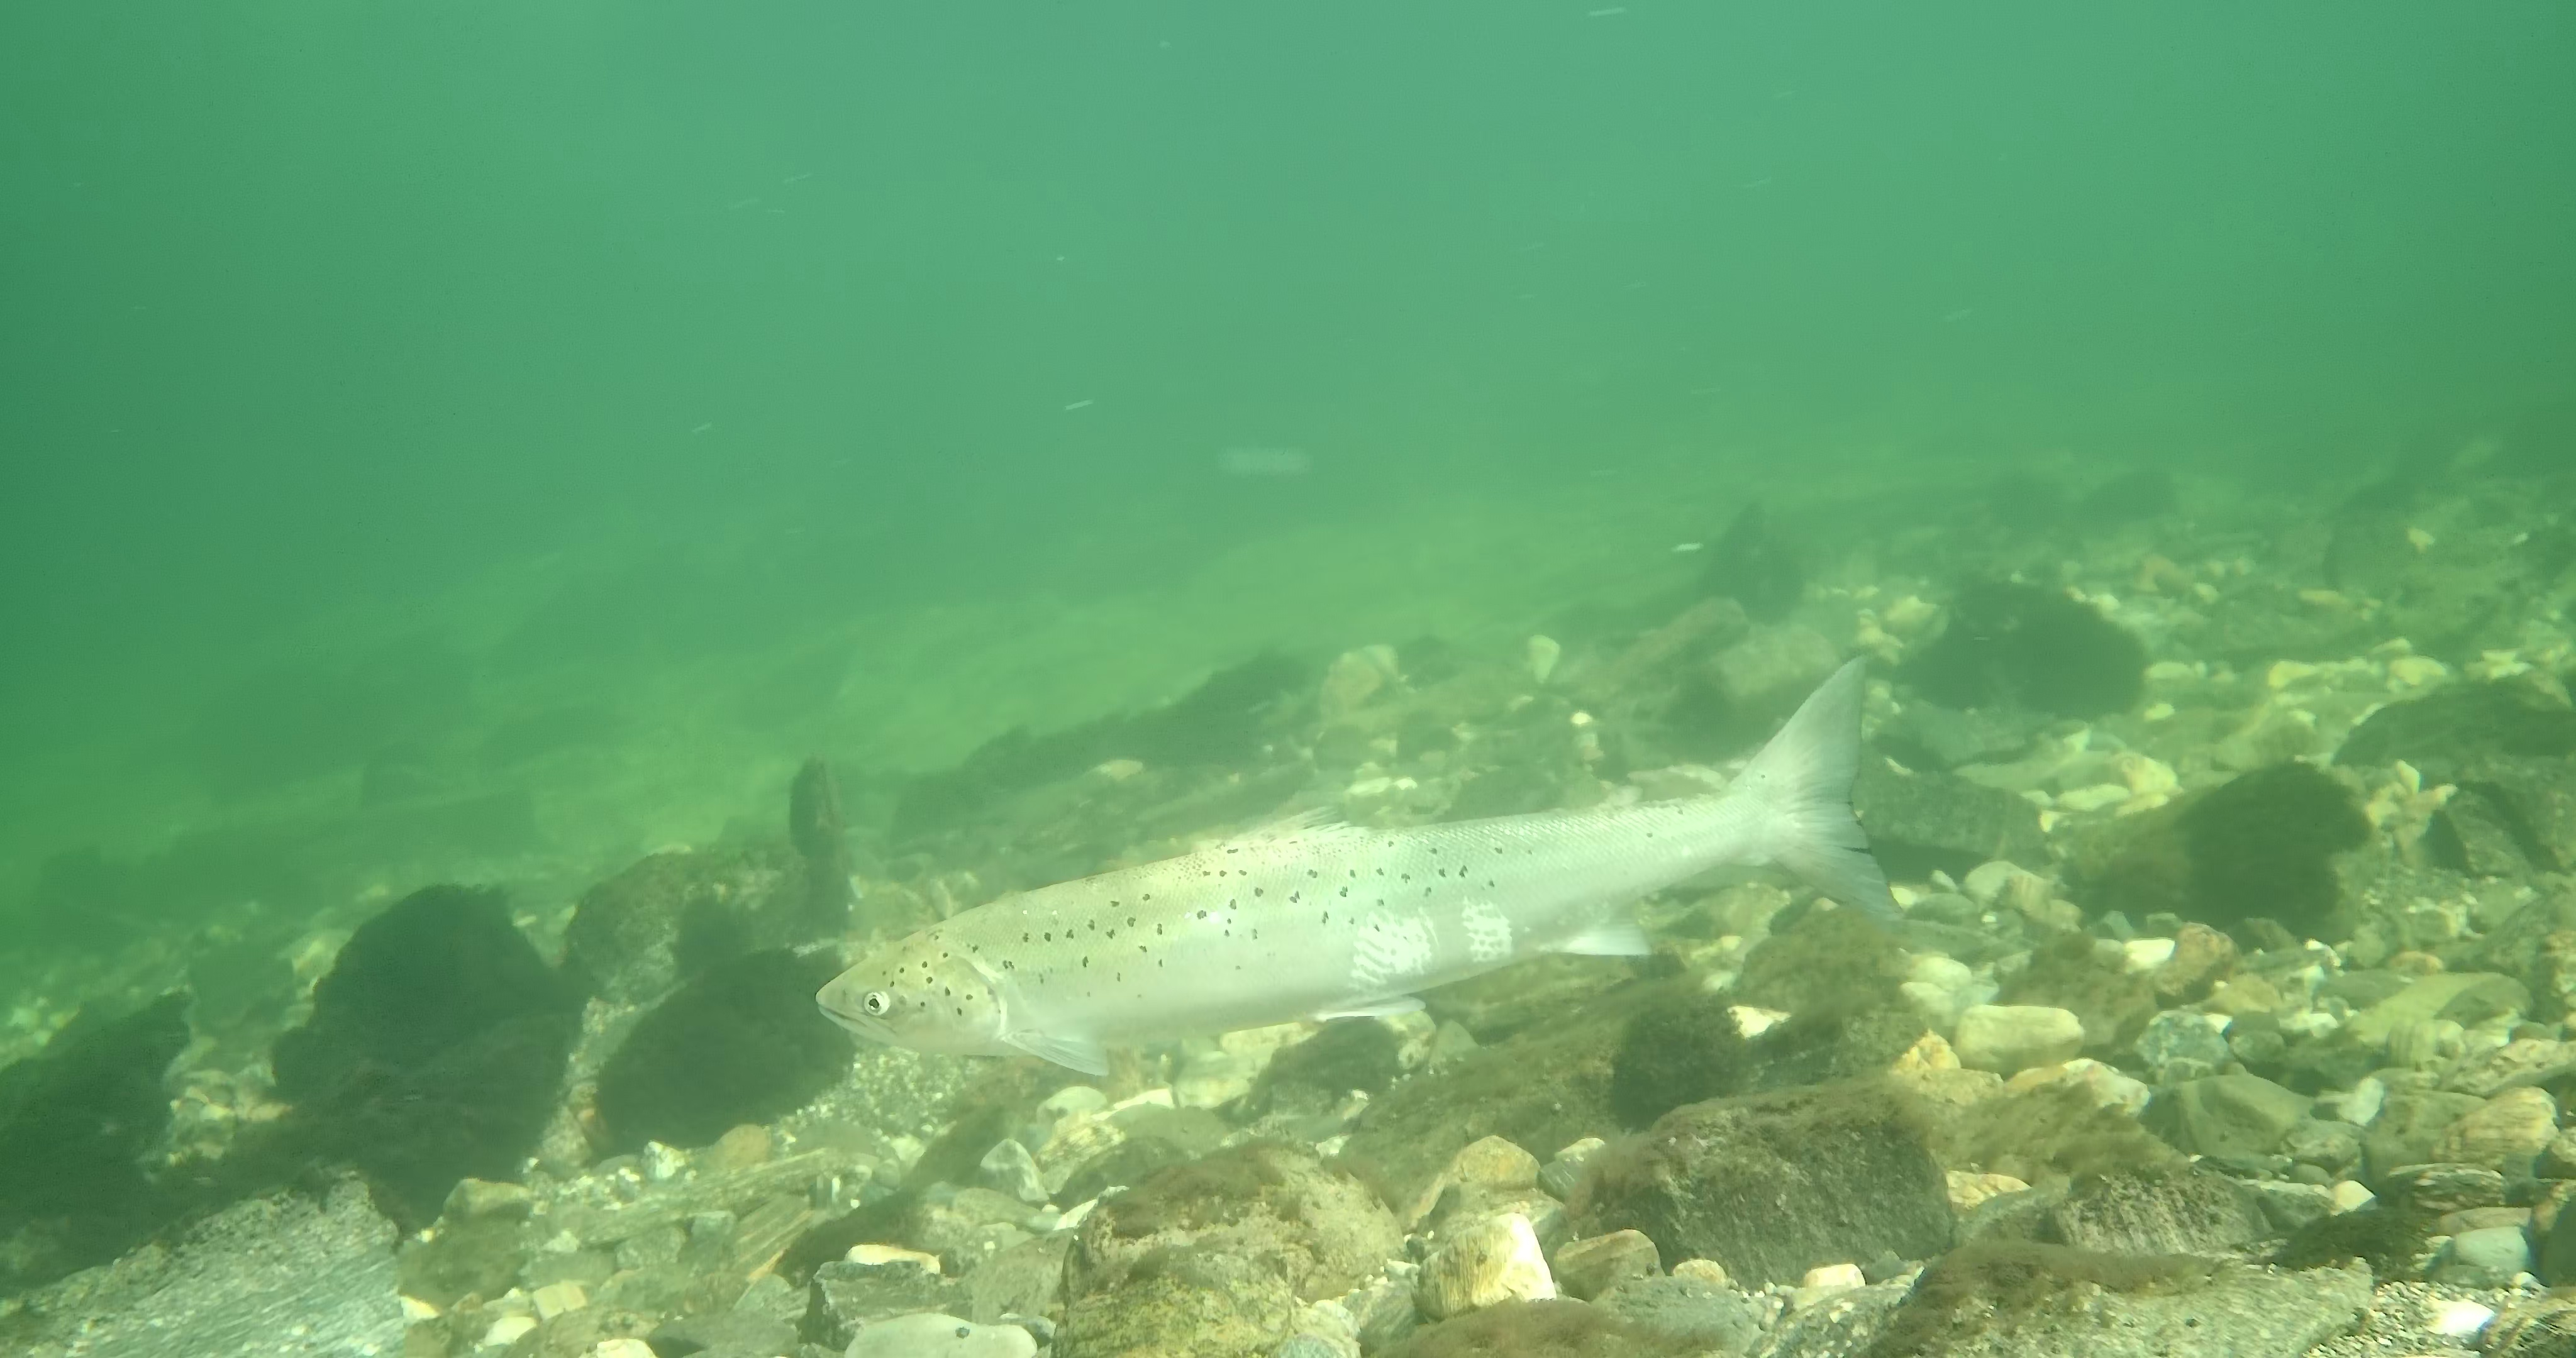salmon: (809, 653, 1910, 1079)
